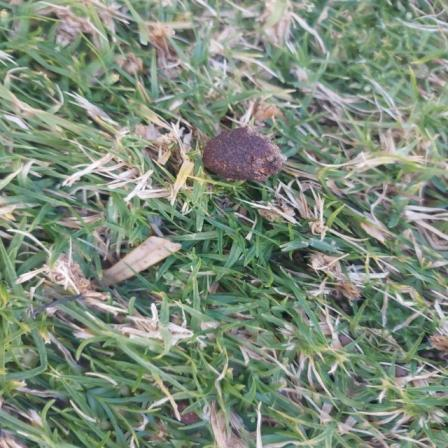dog-poop: (208, 120, 282, 181)
